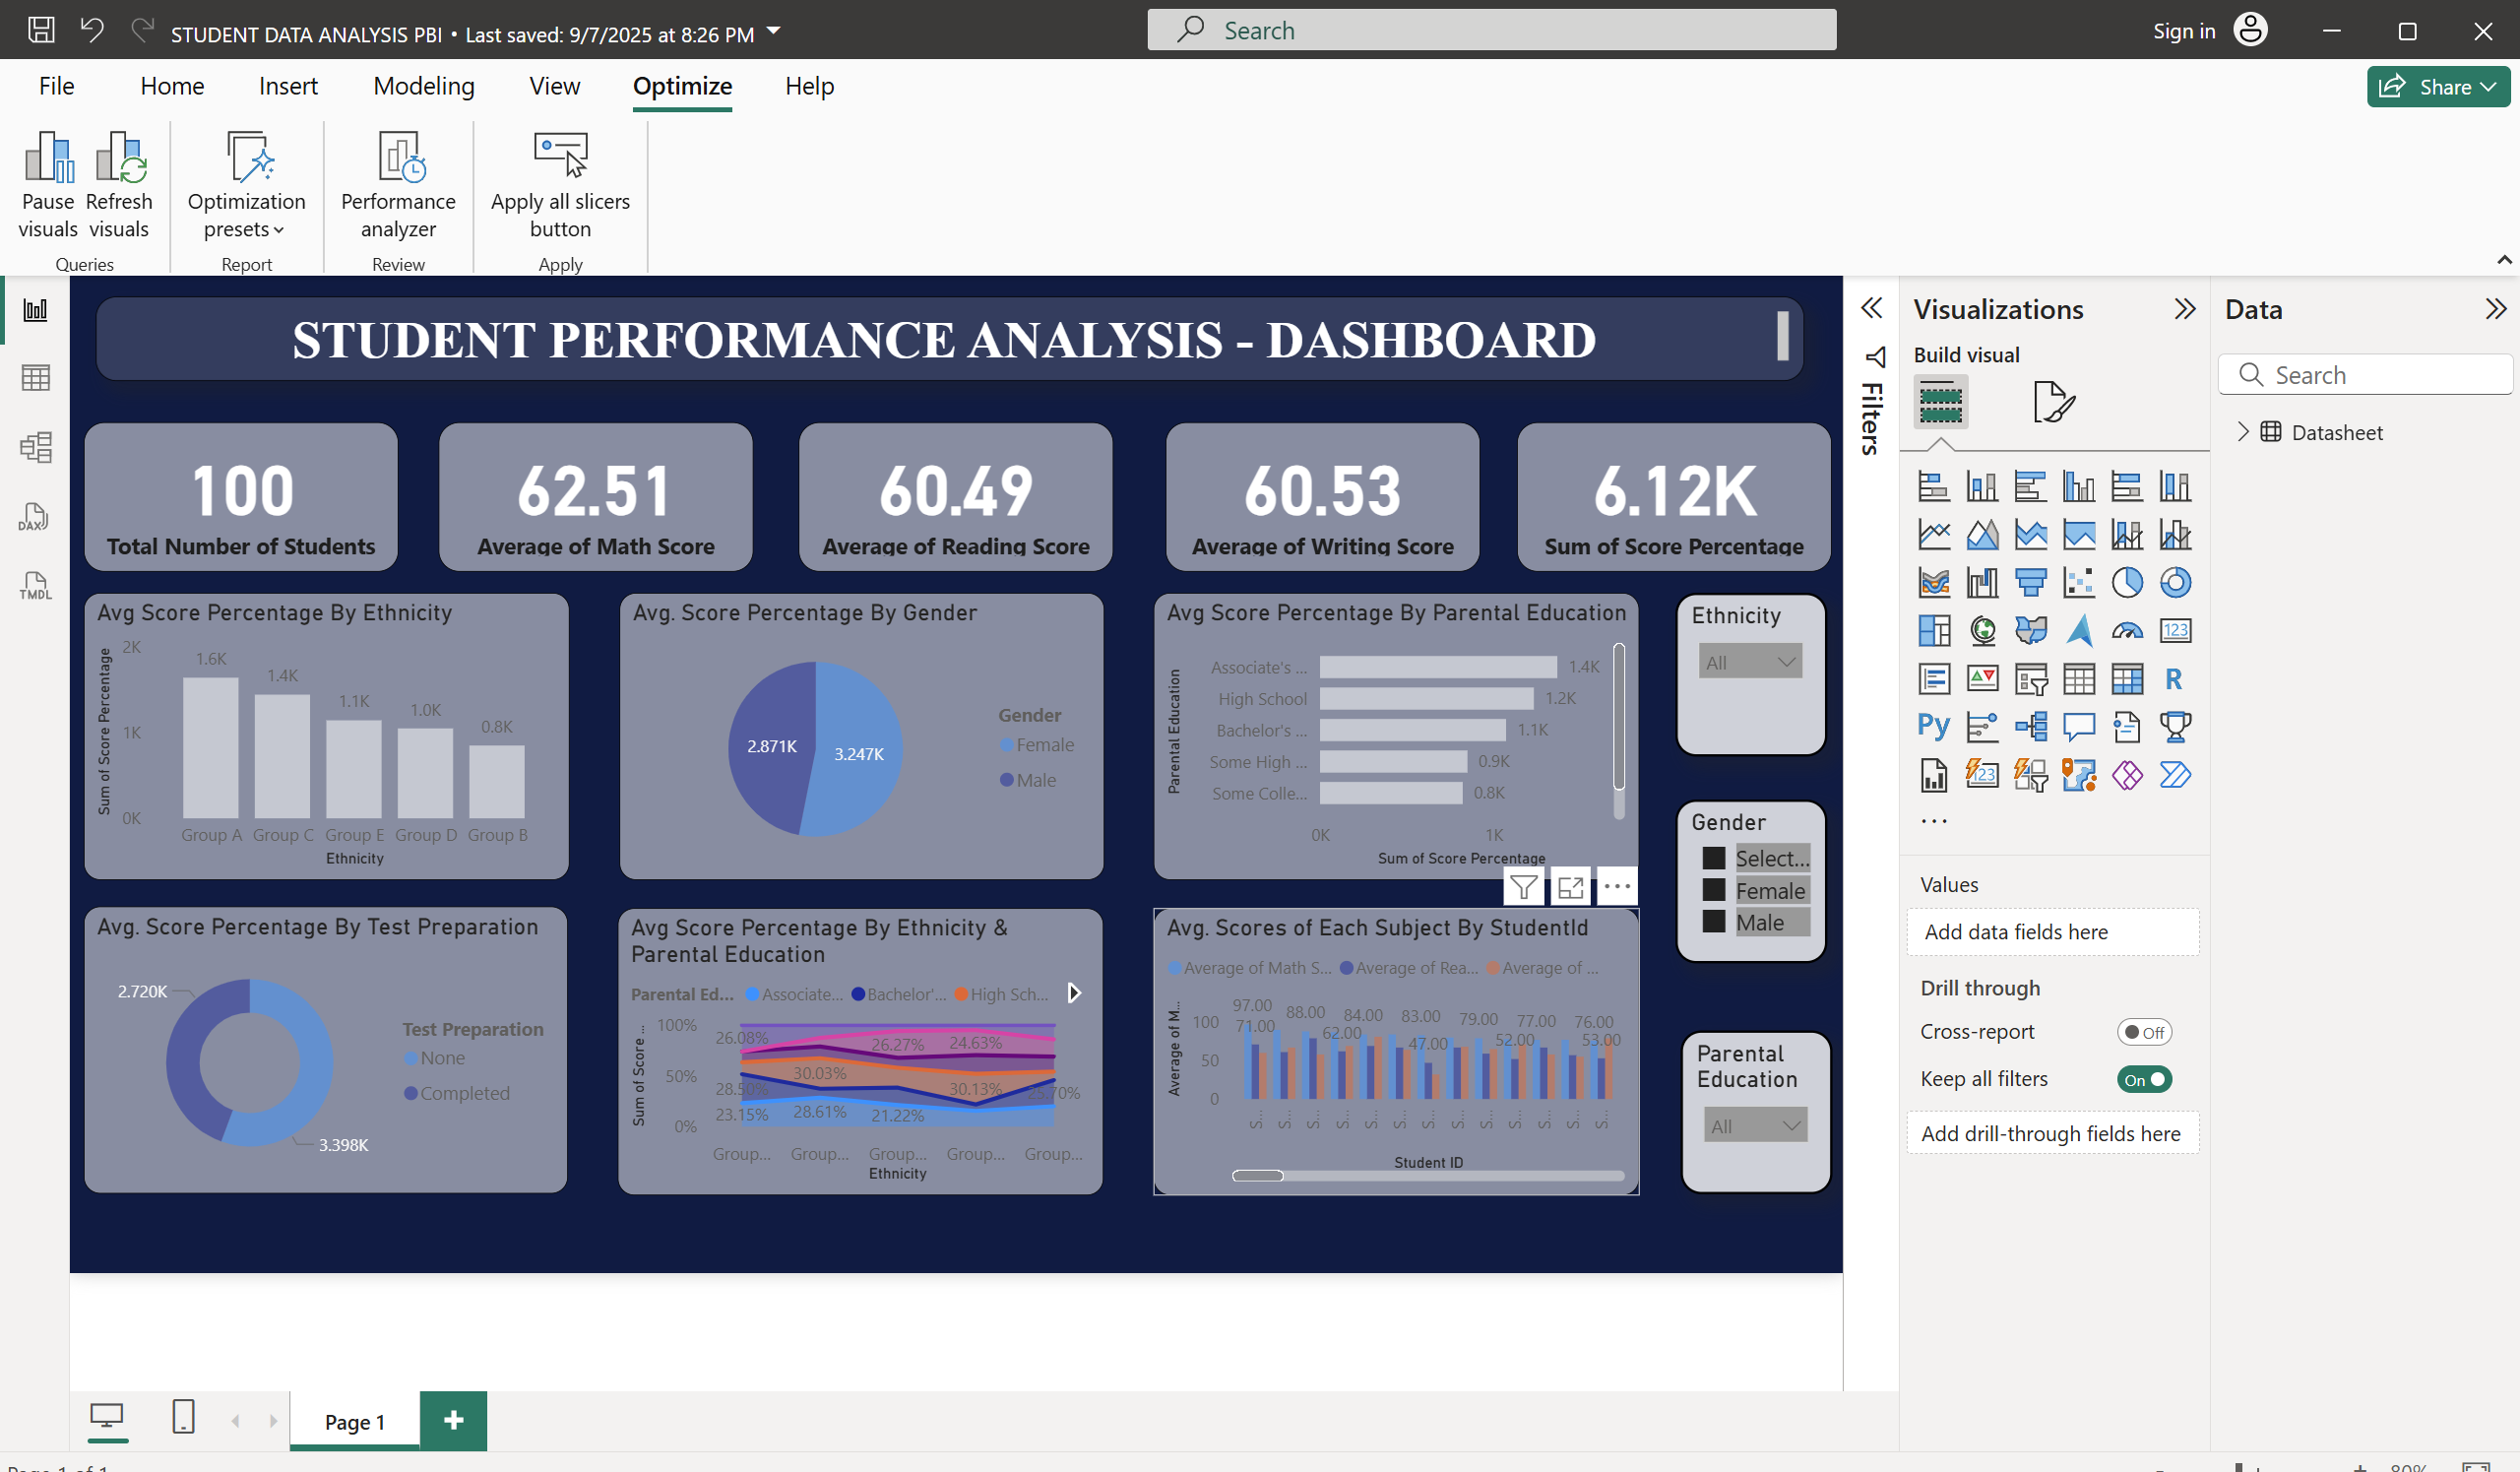

What the dashboard file says about the page in this screenshot:
{"tool":"powerbi","page":{"name":"Page 1","canvas":[1280,720],"ordinal":0},"visuals":[{"type":"textbox","box":[18.7,14.9,1233.8,60.9],"z":0},{"type":"card","fields":{"Values":["Datasheet.Student ID"]},"box":[10,105.7,227.6,108.2],"z":1000},{"type":"card","fields":{"Values":["Datasheet.Math Score"]},"box":[266.2,105.7,227.6,108.2],"z":2000},{"type":"card","fields":{"Values":["Datasheet.Reading Score"]},"box":[526.1,105.7,227.6,108.2],"z":3000},{"type":"card","fields":{"Values":["Datasheet.Writing Score"]},"box":[791,105.7,227.6,108.2],"z":4000},{"type":"slicer","title":"Ethnicity ","fields":{"Values":["Datasheet.Ethnicity"]},"box":[1159.2,228.9,109.5,118.2],"z":5000},{"type":"slicer","title":"Gender","fields":{"Values":["Datasheet.Gender"]},"box":[1159.2,378.1,109.5,118.2],"z":6000},{"type":"card","fields":{"Values":["Datasheet.Score Percentage"]},"box":[1044.8,105.7,227.6,108.2],"z":7000},{"type":"slicer","title":"Parental Education","fields":{"Values":["Datasheet.Parental Education"]},"box":[1162.9,544.8,109.5,118.2],"z":8000},{"type":"columnChart","title":"Avg Score Percentage By Ethnicity","fields":{"Category":["Datasheet.Ethnicity"],"Y":["Datasheet.Score Percentage"]},"box":[10,228.9,350.7,207.7],"z":9000},{"type":"pieChart","title":"Avg. Score Percentage By Gender","fields":{"Category":["Datasheet.Gender"],"Y":["Datasheet.Score Percentage"]},"box":[396.8,228.9,350,207.7],"z":10000},{"type":"clusteredBarChart","title":"Avg Score Percentage By Parental Education","fields":{"Category":["Datasheet.Parental Education"],"Y":["Datasheet.Score Percentage"]},"box":[782.3,228.9,350.7,207.7],"z":11000},{"type":"donutChart","title":"Avg. Score Percentage By Test Preparation","fields":{"Category":["Datasheet.Test Preparation"],"Y":["Datasheet.Score Percentage"]},"box":[10,455.2,349.5,207.7],"z":12000},{"type":"hundredPercentStackedAreaChart","title":"Avg Score Percentage By Ethnicity & Parental Education","fields":{"Category":["Datasheet.Ethnicity"],"Y":["Datasheet.Score Percentage"],"Series":["Datasheet.Parental Education"]},"box":[395.5,456.5,350.7,207.7],"z":13000},{"type":"lineClusteredColumnComboChart","title":"Avg. Scores of Each Subject By StudentId","fields":{"Category":["Datasheet.Student ID"],"Y":["Datasheet.Math Score","Datasheet.Reading Score","Datasheet.Writing Score"]},"box":[782.3,456.5,350.7,207.7],"z":14000}]}

Visuals, with their boxes on the page's 1280x720 design canvas (x1, y1, x2, y2). These are canvas units, not pixel positions in the 2520x1472 screenshot, which may show the page scaled, cropped or inside an application window:
textbox: 19 15 1252 76
card - Datasheet.Student ID: 10 106 238 214
card - Datasheet.Math Score: 266 106 494 214
card - Datasheet.Reading Score: 526 106 754 214
card - Datasheet.Writing Score: 791 106 1019 214
"Ethnicity " slicer: 1159 229 1269 347
"Gender" slicer: 1159 378 1269 496
card - Datasheet.Score Percentage: 1045 106 1272 214
"Parental Education" slicer: 1163 545 1272 663
"Avg Score Percentage By Ethnicity" columnChart: 10 229 361 437
"Avg. Score Percentage By Gender" pieChart: 397 229 747 437
"Avg Score Percentage By Parental Education" clusteredBarChart: 782 229 1133 437
"Avg. Score Percentage By Test Preparation" donutChart: 10 455 360 663
"Avg Score Percentage By Ethnicity & Parental Education" hundredPercentStackedAreaChart: 396 456 746 664
"Avg. Scores of Each Subject By StudentId" lineClusteredColumnComboChart: 782 456 1133 664
